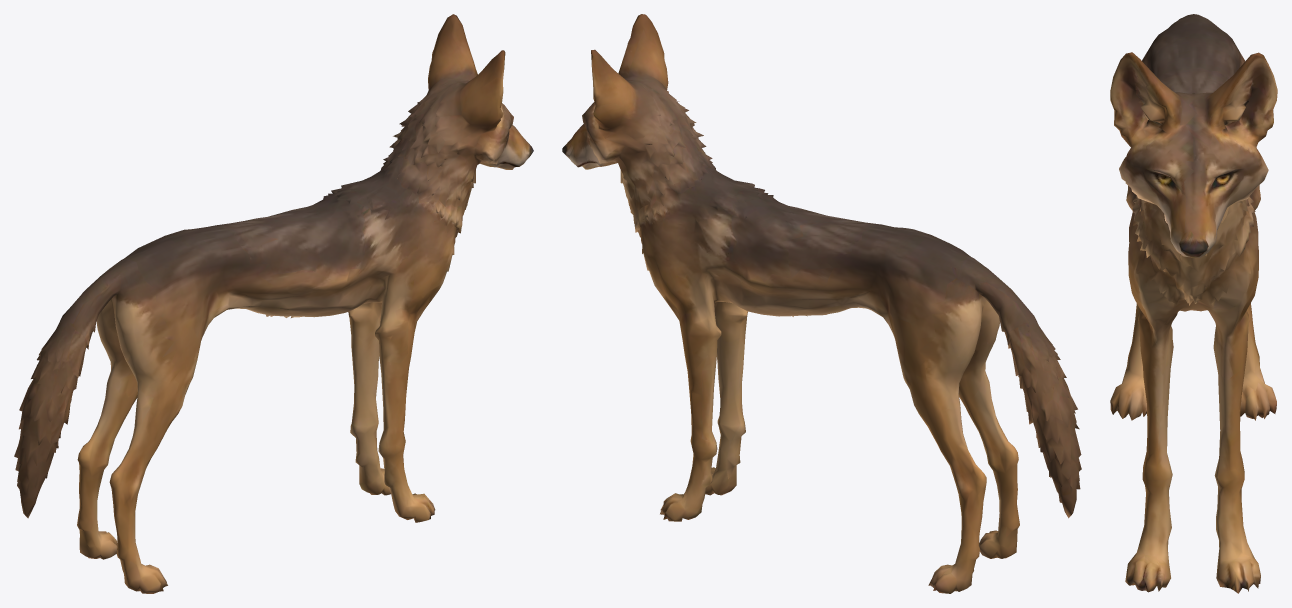
Rendered from wolf.glb.
3 renders of one model, left to right at view 1: azimuth 30°, elevation 25°; view 2: azimuth 150°, elevation 25°; view 3: azimuth 270°, elevation 25°, orthographic. The views are drawn at different scales.
Visible parts, largest first — view 1: tripo_node_5ede5f4a-aa3f-48e3-9d5d-51c6ced532ed; view 2: tripo_node_5ede5f4a-aa3f-48e3-9d5d-51c6ced532ed; view 3: tripo_node_5ede5f4a-aa3f-48e3-9d5d-51c6ced532ed.
Boxes of the visible parts, x1,y1,x2,y2 form: tripo_node_5ede5f4a-aa3f-48e3-9d5d-51c6ced532ed: (14,14,533,593); tripo_node_5ede5f4a-aa3f-48e3-9d5d-51c6ced532ed: (562,14,1081,593); tripo_node_5ede5f4a-aa3f-48e3-9d5d-51c6ced532ed: (1110,14,1277,593).
Bounding box in the file's own units: 1 × 0.8425 × 0.2197.
Materials: 1 (1 with a texture image).
